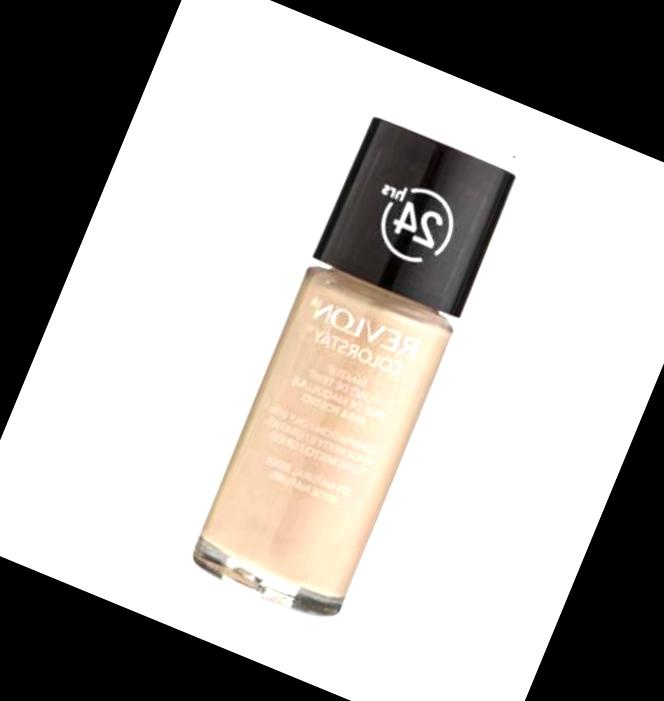cosmetic: (187, 116, 520, 623)
